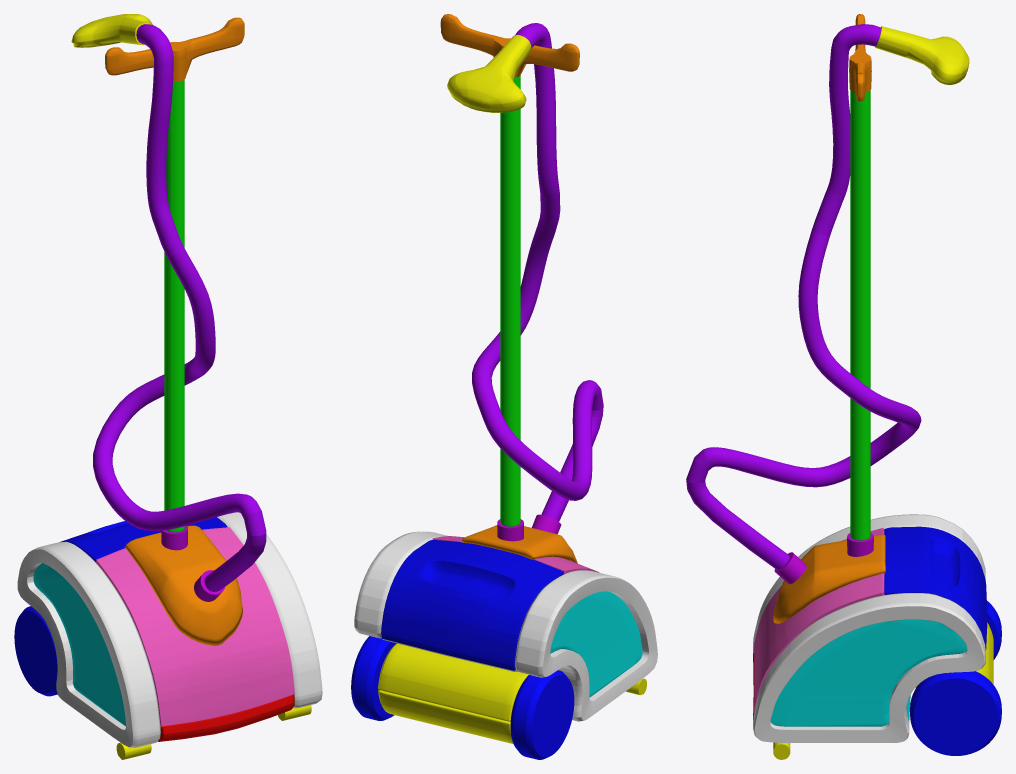
The model's file is steam_machine.fbx.
The picture shows the model from 3 angles, left to right: view 1: azimuth 30°, elevation 25°; view 2: azimuth 150°, elevation 25°; view 3: azimuth 270°, elevation 25°; orthographic projection.
Visible parts, largest first — view 1: polySurface101, polySurface96, polySurface114, polySurface97, polySurface116, polySurface117, polySurface106, polySurface113, polySurface104, polySurface109, polySurface107, polySurface98; view 2: polySurface107, polySurface96, polySurface114, polySurface97, polySurface112, polySurface117, polySurface104, polySurface98, polySurface106, polySurface111, polySurface113, polySurface102 (+2 smaller); view 3: polySurface96, polySurface115, polySurface106, polySurface97, polySurface107, polySurface102, polySurface116, polySurface101, polySurface98, polySurface114, polySurface113, polySurface100.
Boxes of the visible parts, <box> form: polySurface101: <box>96,527,294,726</box>; polySurface96: <box>93,24,266,591</box>; polySurface114: <box>17,541,160,747</box>; polySurface97: <box>164,79,184,532</box>; polySurface116: <box>125,525,242,645</box>; polySurface117: <box>33,563,126,726</box>; polySurface106: <box>217,512,322,708</box>; polySurface113: <box>105,17,244,81</box>; polySurface104: <box>14,606,57,696</box>; polySurface109: <box>158,694,294,741</box>; polySurface107: <box>60,517,227,561</box>; polySurface98: <box>71,14,152,47</box>; polySurface107: <box>381,540,563,670</box>; polySurface96: <box>472,23,603,521</box>; polySurface114: <box>515,570,657,721</box>; polySurface97: <box>500,75,520,526</box>; polySurface112: <box>378,643,528,721</box>; polySurface117: <box>550,591,642,697</box>; polySurface104: <box>510,670,574,759</box>; polySurface98: <box>447,35,531,112</box>; polySurface106: <box>354,531,447,638</box>; polySurface111: <box>378,689,513,743</box>; polySurface113: <box>440,14,579,77</box>; polySurface102: <box>351,636,396,720</box>; polySurface96: <box>686,24,921,569</box>; polySurface115: <box>770,619,966,726</box>; polySurface106: <box>753,593,985,742</box>; polySurface97: <box>850,90,870,540</box>; polySurface107: <box>884,526,987,650</box>; polySurface102: <box>910,671,1001,755</box>; polySurface116: <box>773,534,885,623</box>; polySurface101: <box>754,527,884,710</box>; polySurface98: <box>875,26,969,84</box>; polySurface114: <box>753,514,985,651</box>; polySurface113: <box>849,14,871,101</box>; polySurface100: <box>774,552,806,584</box>.
Bounding box in the file's own units: 27.52 × 94.99 × 39.98.
